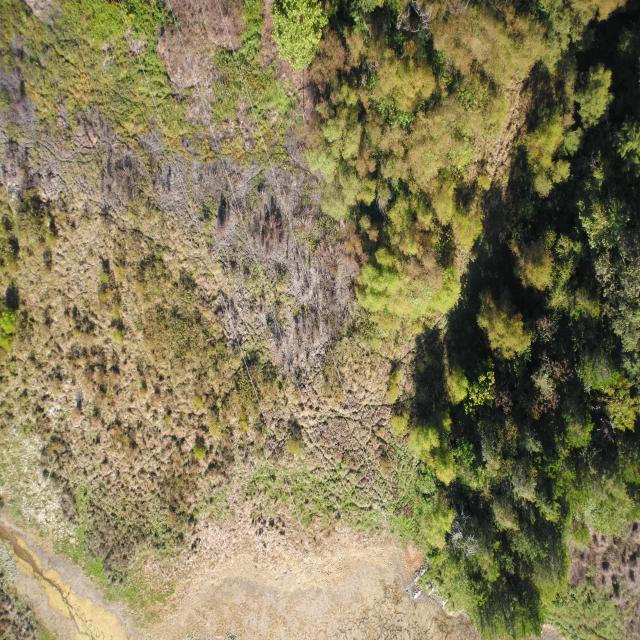Area of Interest: (418, 12, 636, 633), (278, 7, 550, 315)
